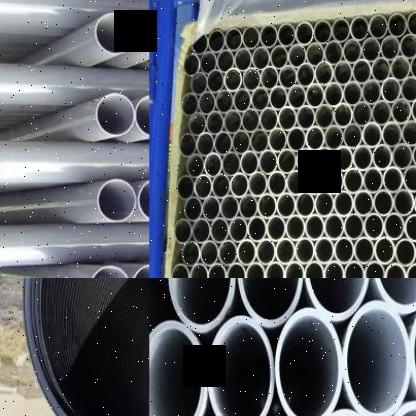pipe: (22, 278, 149, 416), (343, 299, 410, 416), (275, 308, 343, 416), (207, 316, 274, 416), (149, 320, 207, 416), (168, 278, 235, 333), (237, 278, 303, 327), (302, 278, 370, 320), (96, 93, 135, 136), (370, 278, 416, 314), (98, 179, 136, 222), (95, 13, 133, 54), (410, 292, 416, 414), (394, 238, 416, 268), (374, 236, 395, 266), (384, 212, 405, 242), (393, 188, 414, 218), (295, 236, 315, 266), (135, 94, 149, 136), (314, 236, 335, 264), (354, 236, 375, 264), (343, 213, 364, 241), (333, 190, 354, 218), (353, 190, 374, 218), (373, 190, 394, 218), (352, 144, 373, 172), (372, 144, 393, 172), (334, 236, 354, 265), (371, 100, 392, 127), (256, 238, 276, 266), (275, 238, 295, 266), (266, 214, 286, 242), (324, 213, 344, 241), (364, 212, 384, 240), (267, 170, 287, 198), (363, 166, 383, 194), (383, 166, 403, 194), (392, 142, 412, 170), (361, 78, 381, 106), (238, 194, 258, 221), (305, 169, 325, 196), (324, 168, 344, 195), (343, 167, 363, 194), (382, 121, 402, 148), (352, 101, 372, 128), (391, 98, 411, 125), (390, 55, 410, 82), (200, 240, 219, 268), (237, 239, 256, 267), (229, 216, 248, 244), (286, 214, 305, 242), (305, 214, 324, 242), (220, 194, 239, 222), (277, 192, 296, 220), (315, 190, 334, 218), (361, 36, 380, 64), (248, 172, 268, 198), (286, 170, 306, 196), (296, 105, 316, 131), (333, 103, 353, 129), (314, 61, 334, 87), (333, 60, 353, 86), (137, 13, 149, 56), (174, 218, 193, 245), (192, 218, 211, 245), (184, 196, 203, 223), (296, 192, 315, 219), (324, 124, 343, 151), (343, 123, 362, 150), (380, 35, 399, 62), (369, 14, 388, 41), (137, 178, 149, 220), (182, 240, 200, 268), (219, 240, 237, 268), (248, 215, 266, 243), (222, 150, 240, 178), (259, 148, 277, 176), (343, 80, 361, 108), (286, 127, 306, 152), (305, 126, 325, 151), (362, 123, 382, 148), (381, 78, 401, 103), (371, 58, 391, 83), (296, 148, 315, 174), (315, 147, 334, 173), (334, 146, 353, 172), (241, 108, 260, 134), (278, 106, 297, 132), (315, 104, 334, 130), (324, 82, 343, 108), (352, 59, 371, 85), (251, 45, 270, 71), (295, 21, 314, 47), (350, 16, 369, 42), (388, 12, 407, 38), (89, 266, 130, 278), (211, 217, 229, 244), (202, 195, 220, 222), (258, 193, 276, 220), (343, 38, 361, 65), (398, 33, 416, 60), (194, 175, 213, 200), (212, 174, 231, 199), (230, 173, 249, 198), (186, 154, 205, 179), (196, 132, 215, 157), (250, 129, 269, 154), (268, 128, 287, 153), (215, 90, 234, 115), (269, 86, 288, 111), (287, 85, 306, 110), (260, 66, 279, 91), (313, 20, 332, 45), (240, 150, 258, 176), (242, 67, 260, 93), (270, 44, 288, 70), (288, 43, 306, 69), (306, 41, 324, 67), (324, 40, 342, 66), (332, 18, 350, 44), (205, 111, 224, 135), (223, 110, 242, 134), (177, 175, 195, 200), (204, 153, 222, 178), (278, 149, 296, 174), (214, 131, 232, 156), (232, 130, 250, 155), (260, 107, 278, 132), (181, 92, 199, 117), (198, 91, 216, 116), (251, 87, 269, 112), (306, 84, 324, 109), (224, 68, 242, 93), (279, 65, 297, 90), (297, 63, 315, 88), (234, 47, 252, 72), (260, 24, 278, 49), (278, 23, 296, 48), (207, 69, 224, 95), (179, 133, 197, 157), (233, 89, 251, 113), (400, 76, 416, 103), (199, 51, 217, 75), (207, 29, 225, 53), (189, 112, 206, 137), (217, 49, 234, 74), (225, 27, 242, 52), (401, 119, 416, 147), (183, 53, 200, 77), (242, 26, 259, 50), (402, 164, 416, 193), (191, 34, 209, 56), (191, 72, 207, 96), (323, 261, 344, 278), (404, 213, 416, 242), (365, 261, 385, 278), (344, 261, 364, 278), (284, 261, 304, 278), (265, 261, 284, 278), (304, 261, 323, 278), (245, 262, 265, 278), (385, 263, 406, 278), (227, 262, 246, 278), (207, 263, 227, 278), (189, 263, 208, 278), (406, 10, 416, 37), (171, 264, 189, 278), (405, 262, 416, 278), (410, 55, 416, 80), (411, 96, 416, 124), (412, 142, 416, 170), (414, 190, 416, 218)
